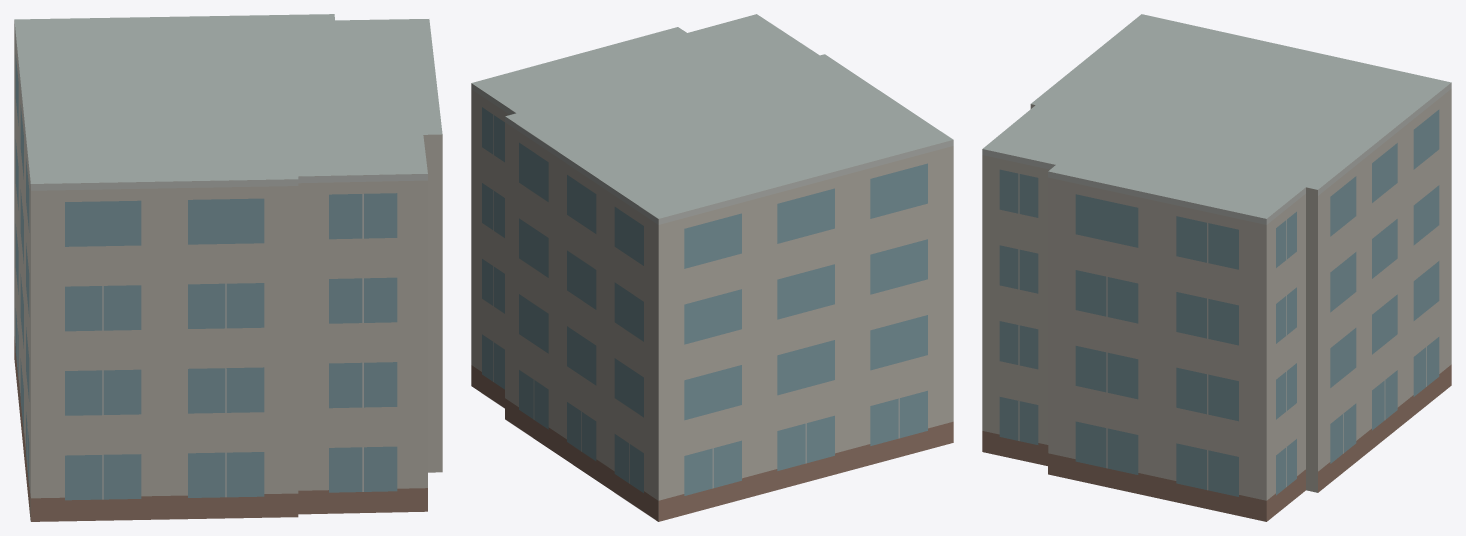
The model's file is survey-upis-32945671.glb.
3 views of the same model, side by side, from view 1: azimuth 30°, elevation 25°; view 2: azimuth 150°, elevation 25°; view 3: azimuth 270°, elevation 25° (orthographic). The views are drawn at different scales.
Parts seen in each view (by area): view 1: survey-upis-32945671.tmp; view 2: survey-upis-32945671.tmp; view 3: survey-upis-32945671.tmp.
Part boxes in pixels (x1=…): survey-upis-32945671.tmp: x1=14, y1=14, x2=442, y2=521; survey-upis-32945671.tmp: x1=471, y1=14, x2=953, y2=521; survey-upis-32945671.tmp: x1=982, y1=14, x2=1451, y2=521.
Bounding box in the file's own units: 17.7 × 12.2 × 17.13.
